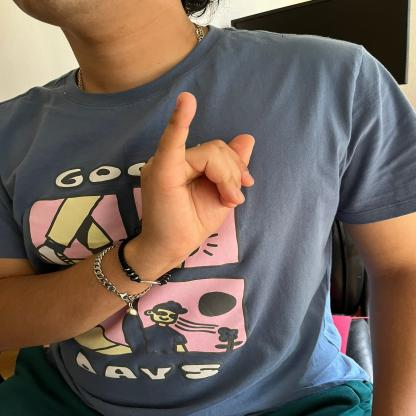I: (138, 86, 259, 258)
